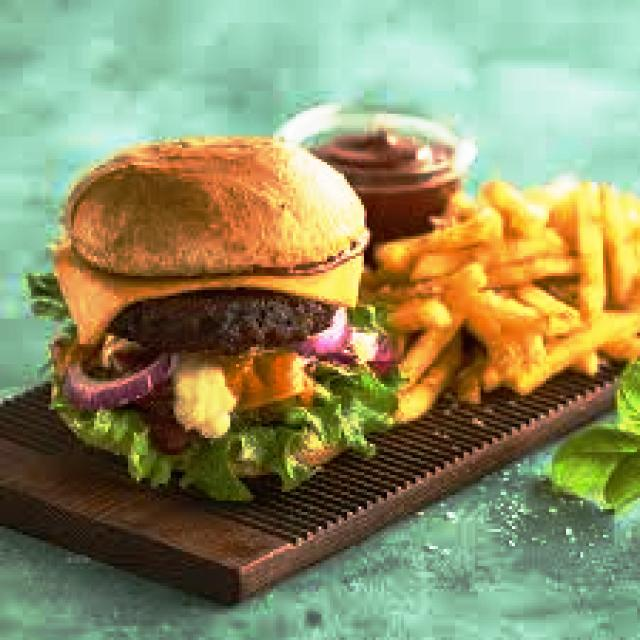burger: (28, 130, 404, 500)
french fries: (364, 171, 637, 421)
ketchup: (336, 127, 429, 171)
